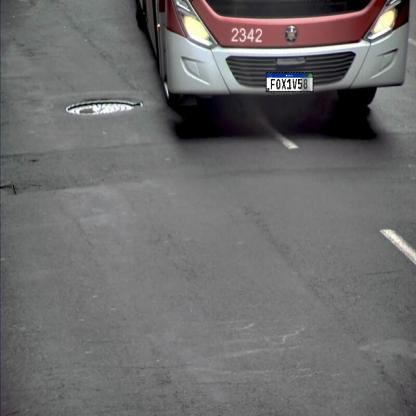PlacaM: (266, 72, 314, 92)
